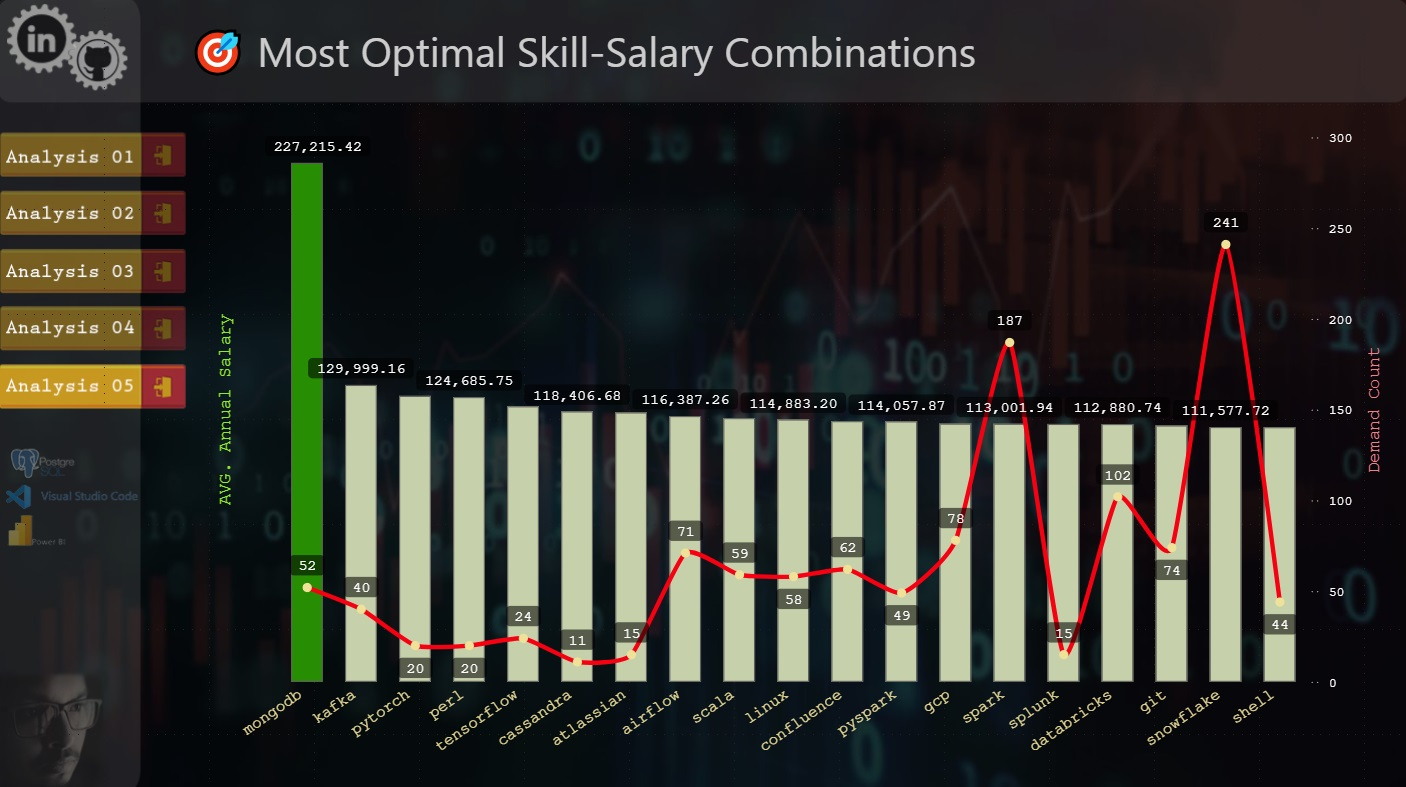

Layout of this report page (visuals, bound fields, positions):
{"tool":"powerbi","page":{"name":"Q5 - Most Optimal Skill-Salary Combinations","canvas":[1280,720],"ordinal":4},"visuals":[{"type":"lineClusteredColumnComboChart","fields":{"Category":["5_skill_demand_count_&_salary (2).skill_name"],"Y":["Sum(5_skill_demand_count_&_salary (2).annual_average_salary)"],"Y2":["Sum(5_skill_demand_count_&_salary (2).demand_count)"]},"box":[192,112,1072,592],"z":0},{"type":"textbox","box":[168,16,816,64],"z":1000},{"type":"actionButton","box":[0,120,168,40],"z":1001},{"type":"actionButton","box":[0,176,168,40],"z":1002},{"type":"actionButton","box":[0,224,168,40],"z":1003},{"type":"actionButton","box":[0,280,168,40],"z":1004},{"type":"actionButton","box":[0,336,168,40],"z":1005},{"type":"actionButton","box":[16,16,48,40],"z":1006},{"type":"actionButton","box":[72,40,40,32],"z":1007}]}

Visuals, with their boxes in screenshot pixels (x1, y1, x2, y2), scaled from the page's 1280x720 canvas onto the 1406x787 screenshot:
lineClusteredColumnComboChart - 5_skill_demand_count_&_salary (2).skill_name x Sum(5_skill_demand_count_&_salary (2).annual_average_salary): <region>211, 122, 1388, 770</region>
textbox: <region>185, 17, 1081, 87</region>
actionButton: <region>0, 131, 185, 175</region>
actionButton: <region>0, 192, 185, 236</region>
actionButton: <region>0, 245, 185, 289</region>
actionButton: <region>0, 306, 185, 350</region>
actionButton: <region>0, 367, 185, 411</region>
actionButton: <region>18, 17, 70, 61</region>
actionButton: <region>79, 44, 123, 79</region>
